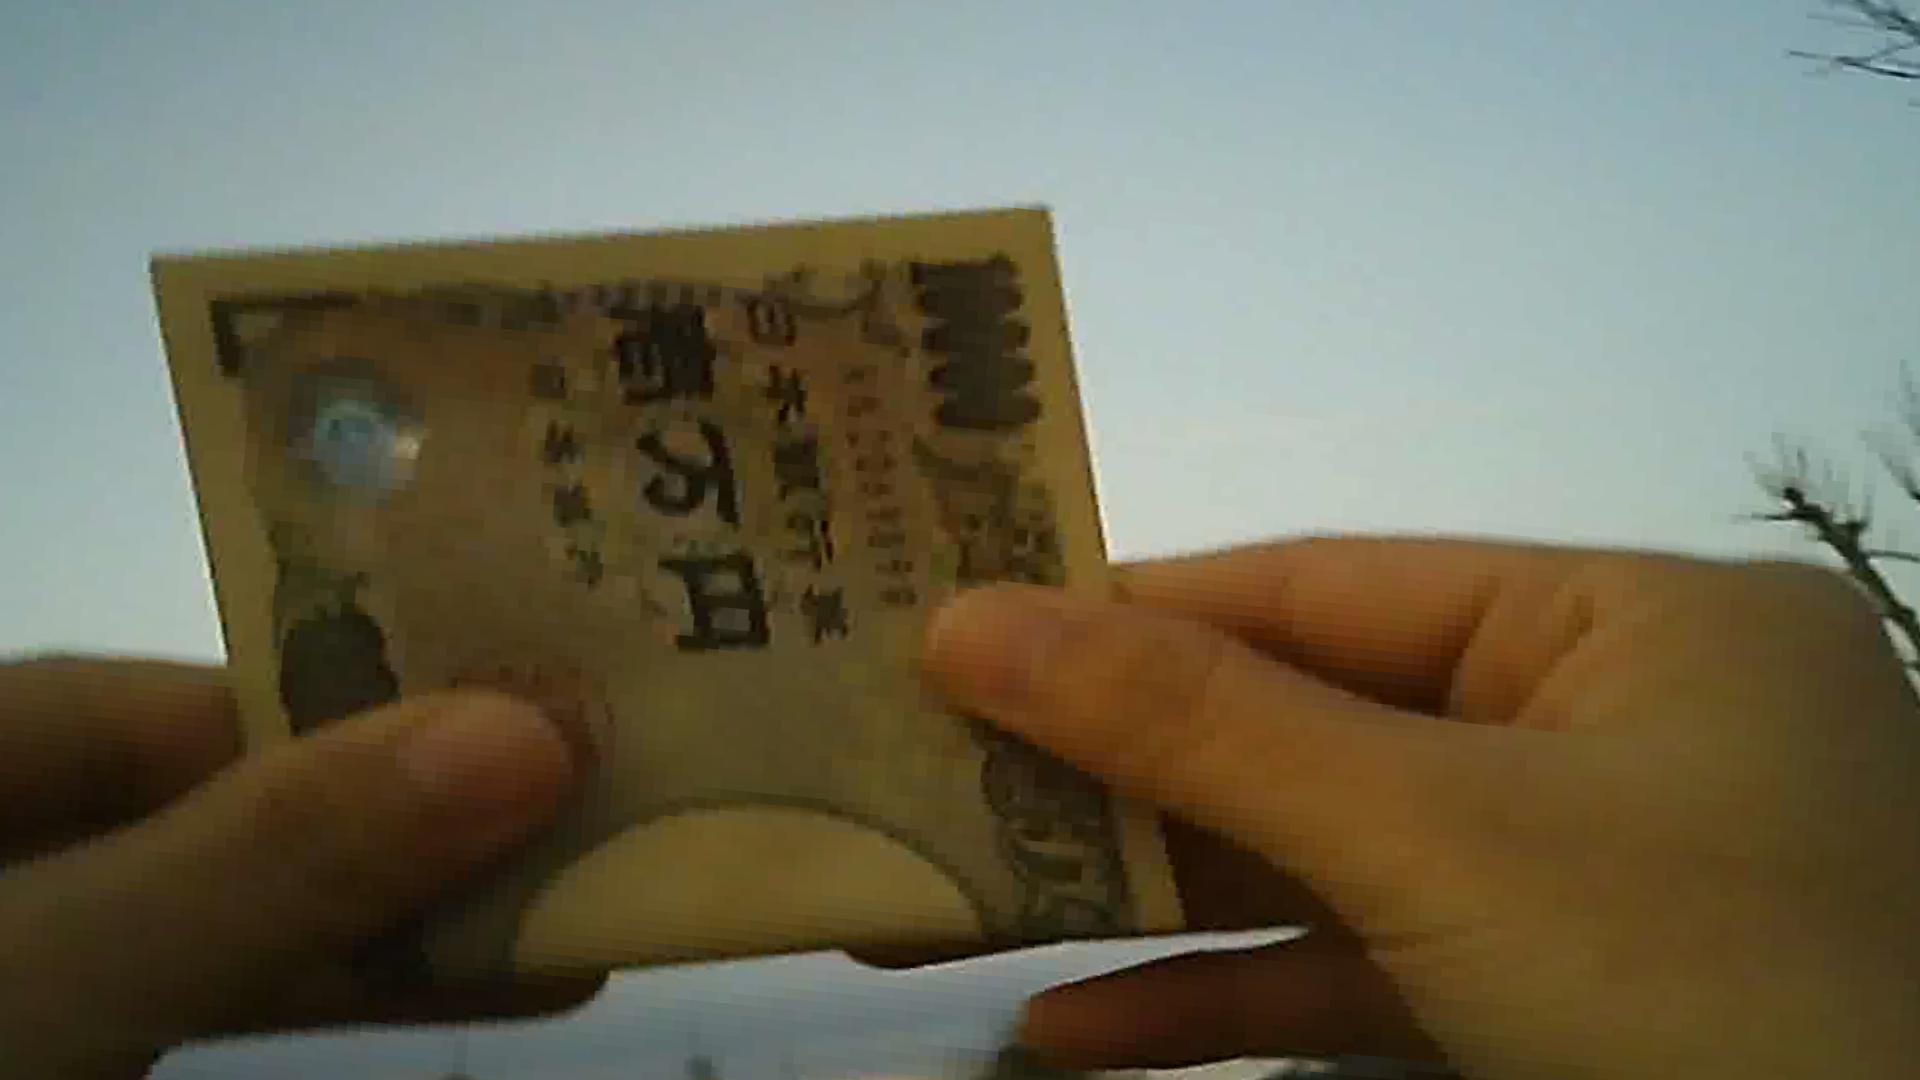10,000 Yen: (133, 193, 1170, 1001)
